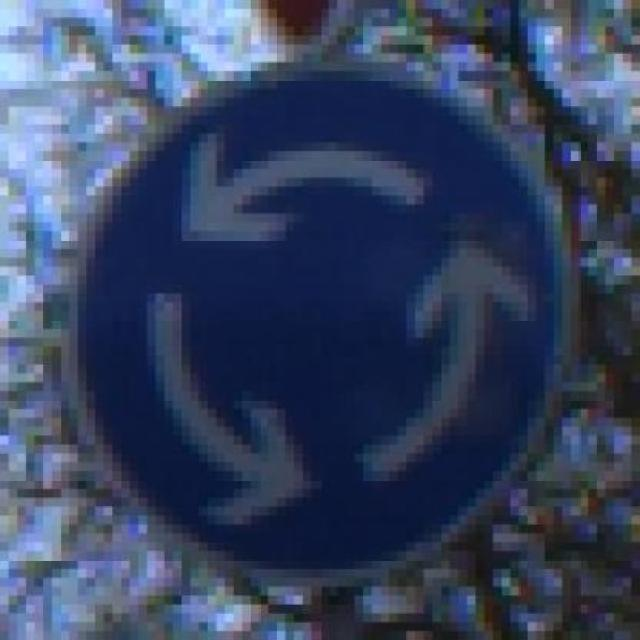Round-About: (43, 45, 606, 604)
